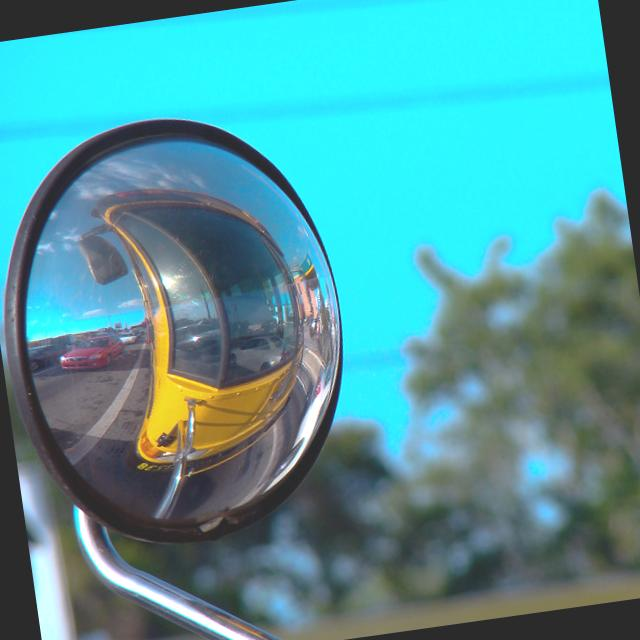Vehicle: (72, 170, 322, 484), (58, 328, 127, 376), (169, 321, 225, 362), (26, 346, 59, 374), (118, 331, 138, 346)
